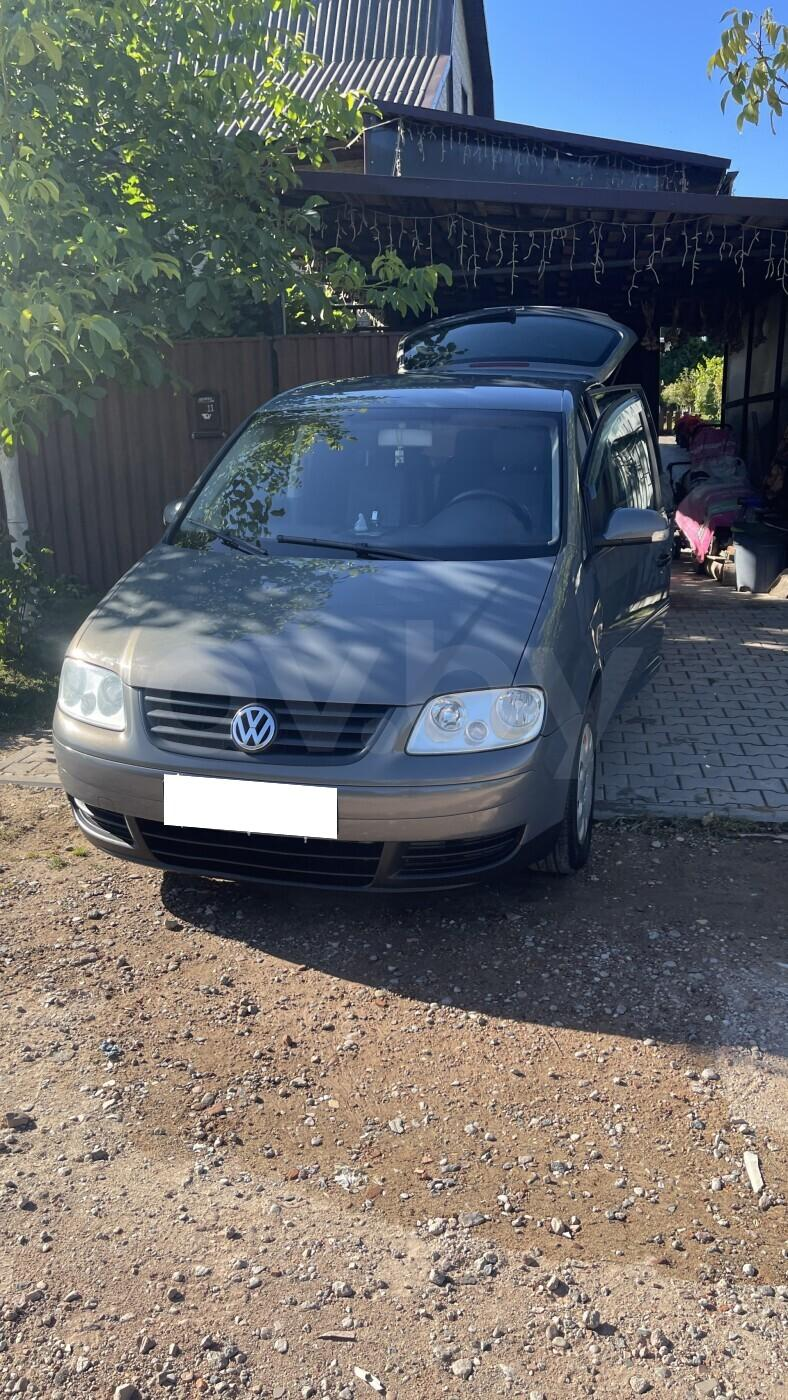Touran_2003-2006: (52, 360, 682, 888)
